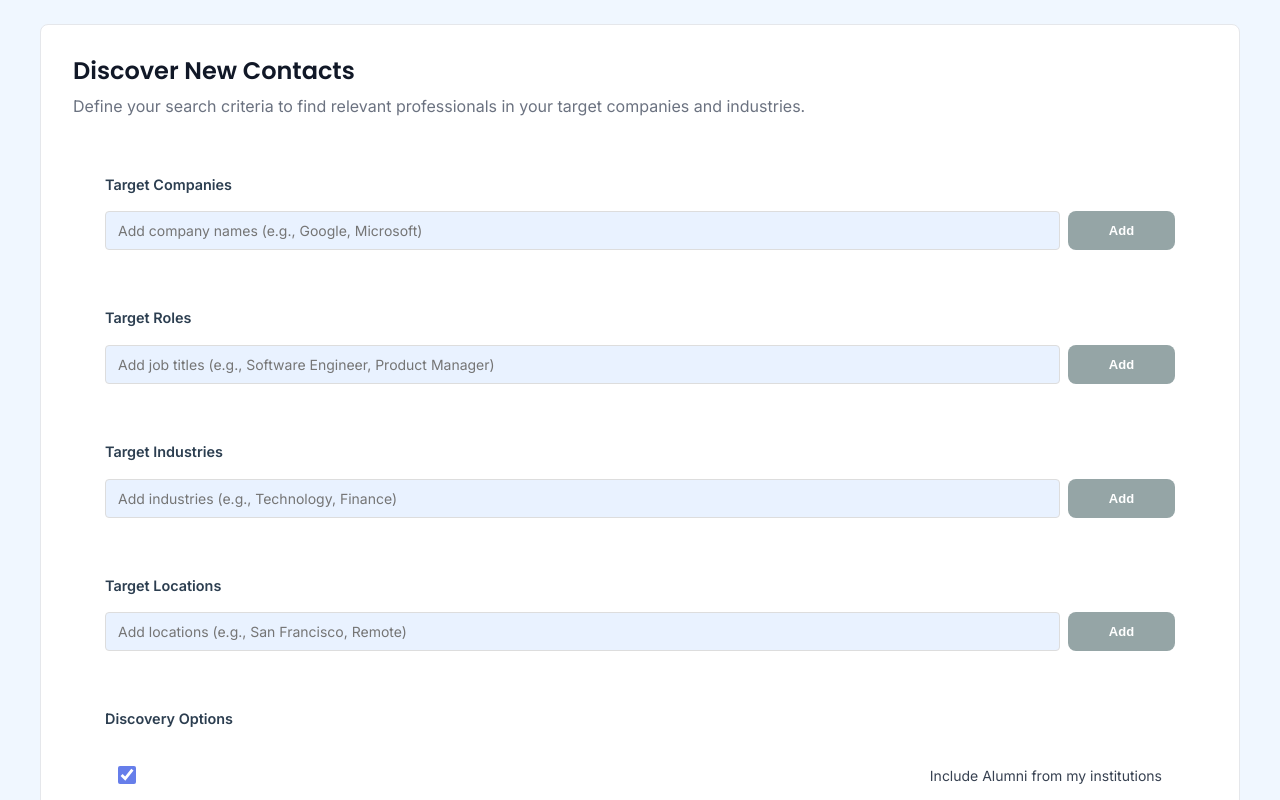
Test: DiscoverySearchForm › adds company to list
The width and height of the screenshot is (1280, 800).
Type "Google" into the field with placeholder "Add company names (e.g., Google, Microsoft)" at (582, 231), box [105,211,1060,250]
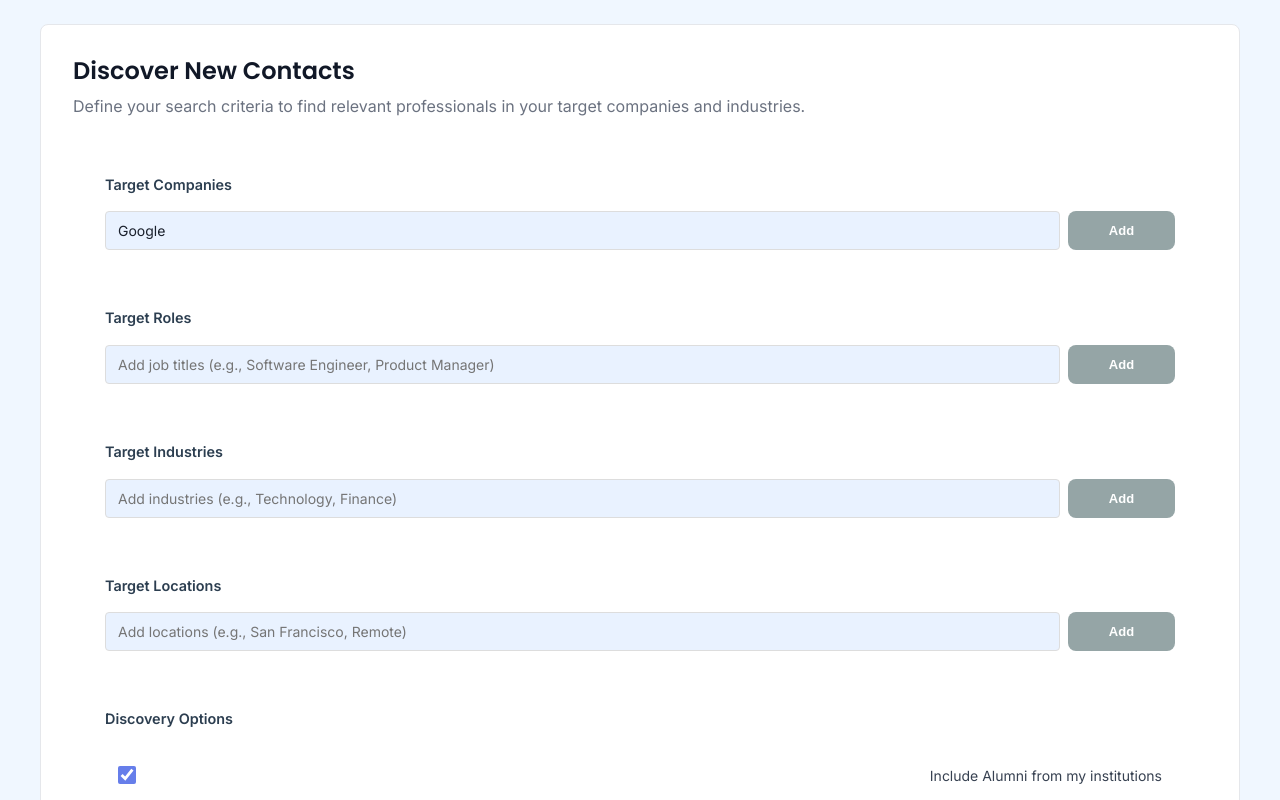
Click the 1st button "Add" at (1122, 231), box [1068,211,1175,250]
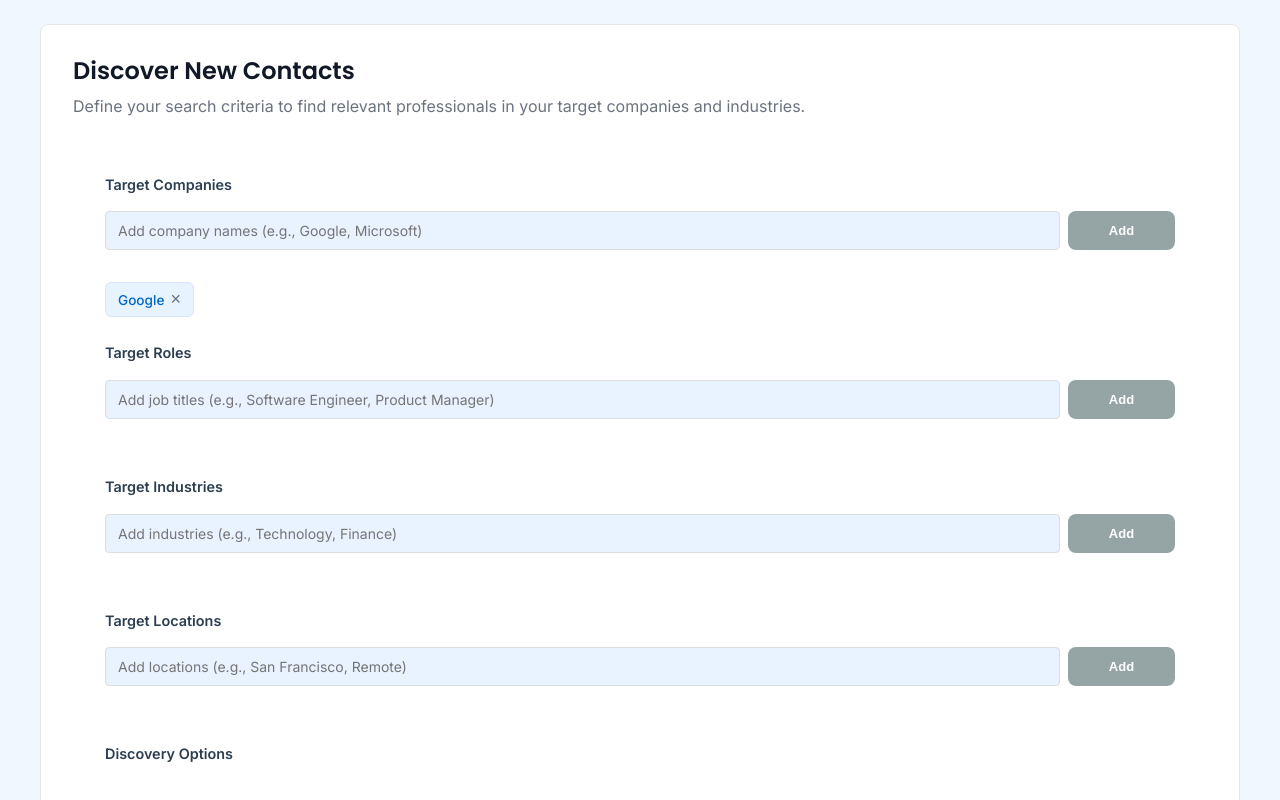
Expected: the text "Google" is shown, [118,292,164,308]
